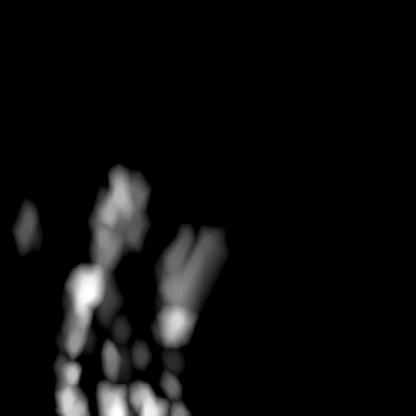fingers: (12, 199, 40, 259)
palm: (51, 346, 185, 414)
thumb: (63, 158, 222, 344)
